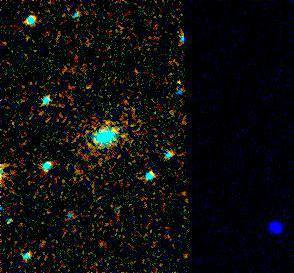star: (157, 72, 187, 102)
